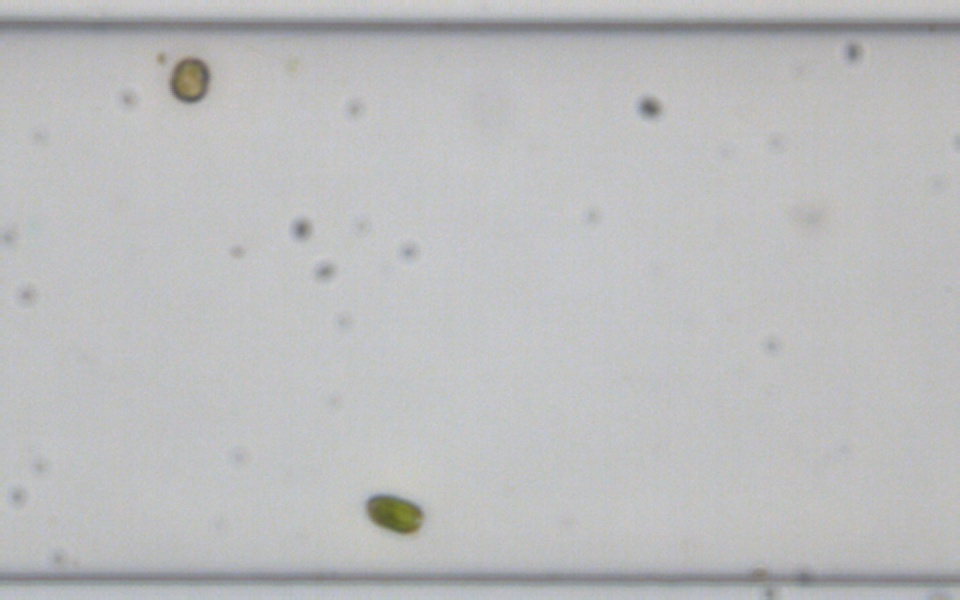Effrenium: (166, 55, 209, 103)
Platymonas: (362, 490, 425, 536)
